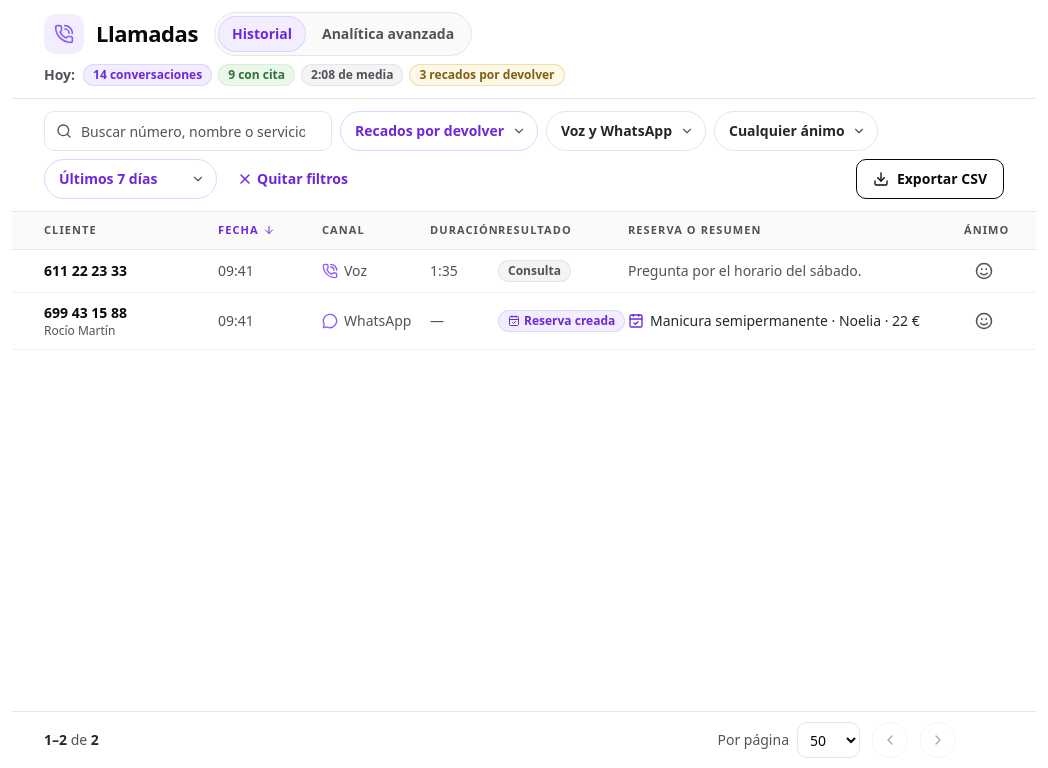
LlamadasEscritorio › exporta a CSV exactamente lo filtrado
Click the button "Exportar CSV" at x=930, y=179, box x1=856 y1=159 x2=1004 y2=199
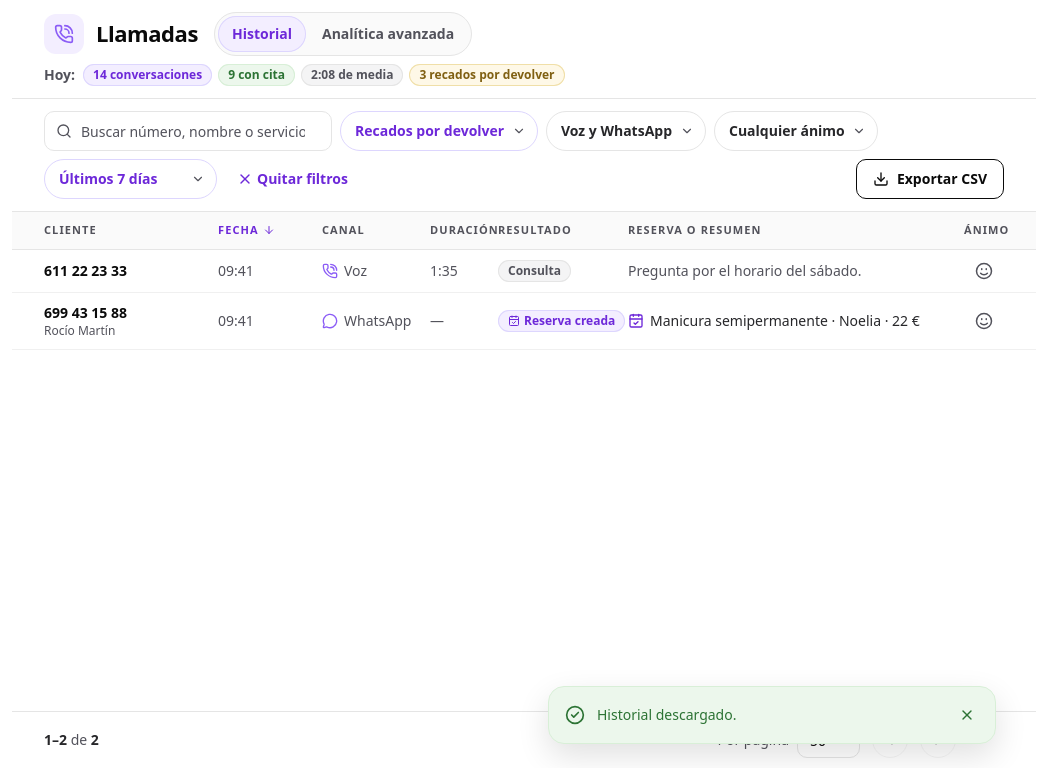
expect the text "Historial descargado." is shown: met, box x1=597 y1=705 x2=736 y2=724
